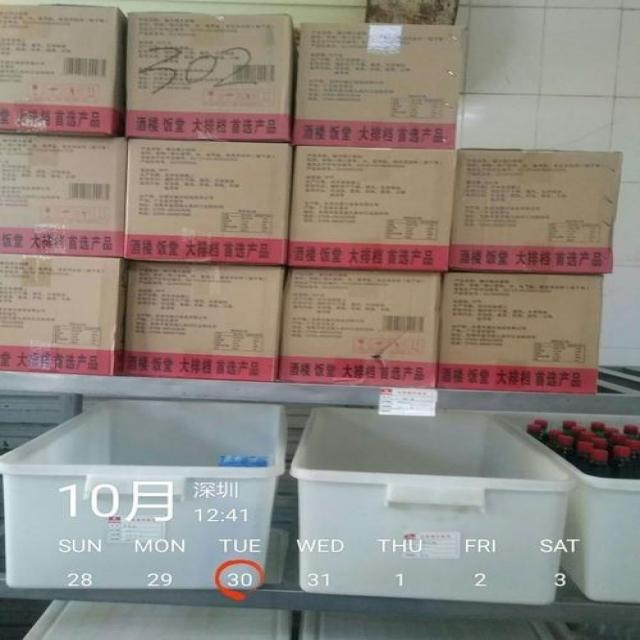box: (289, 11, 463, 153), (116, 11, 296, 140), (452, 143, 621, 279), (441, 272, 604, 401), (280, 263, 440, 391), (134, 140, 297, 264), (121, 264, 282, 386), (298, 140, 442, 270), (0, 0, 137, 134), (0, 127, 129, 263), (2, 250, 122, 386)
